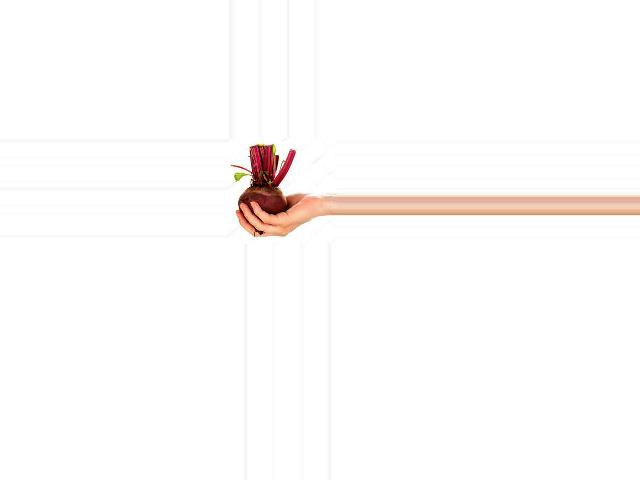beet: (231, 144, 295, 235)
